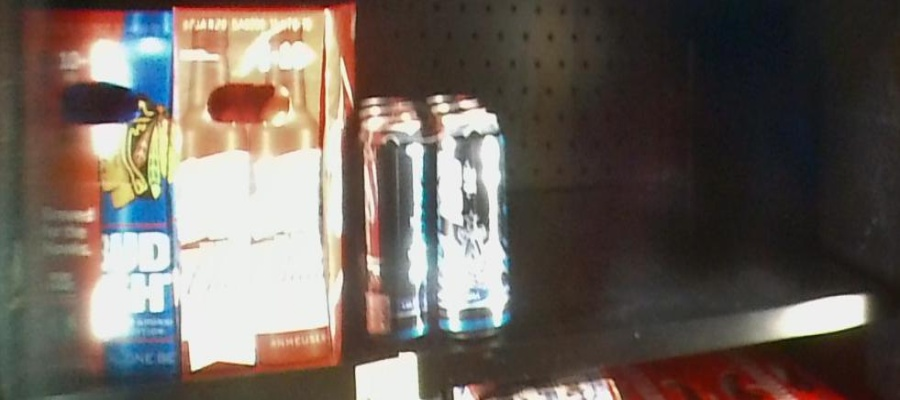bottle: (174, 7, 355, 370), (17, 6, 178, 383), (353, 111, 511, 338)
